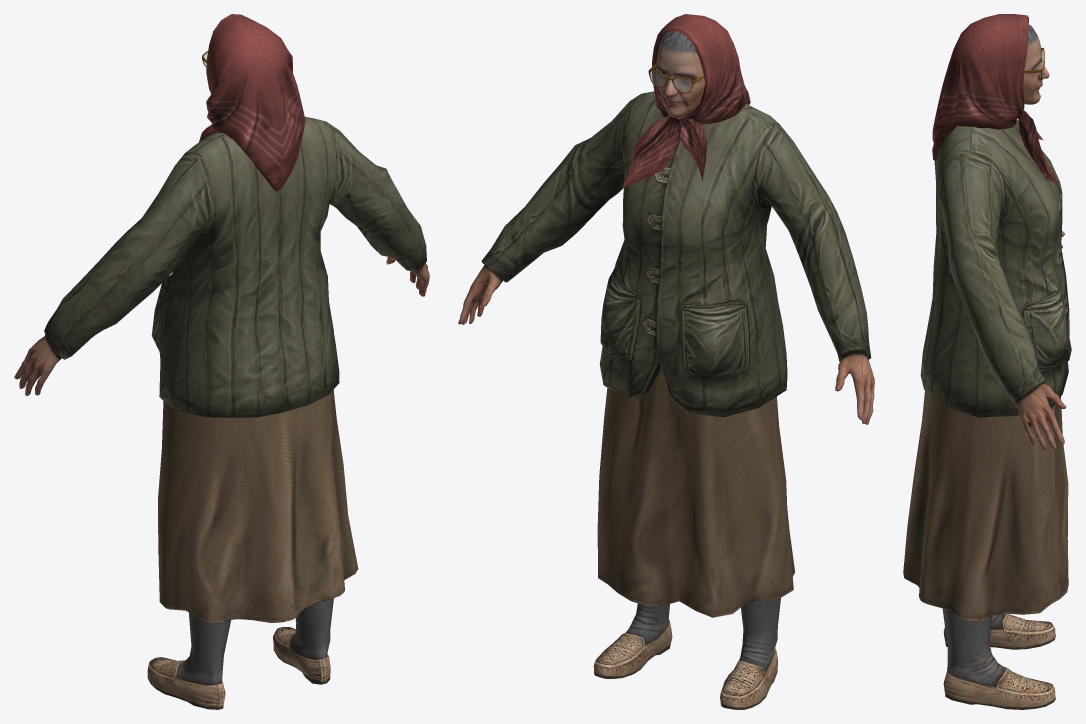
File: Babushka_2.fbx
The picture shows the model from 3 angles, left to right: view 1: azimuth 30°, elevation 25°; view 2: azimuth 150°, elevation 25°; view 3: azimuth 270°, elevation 25°; orthographic projection.
Visible parts, largest first — view 1: p3dm.ru_bosnian_b; view 2: p3dm.ru_bosnian_b; view 3: p3dm.ru_bosnian_b.
Part boxes in pixels (left/top/right/bottom): p3dm.ru_bosnian_b: left=14, top=14, right=429, bottom=709; p3dm.ru_bosnian_b: left=458, top=14, right=874, bottom=709; p3dm.ru_bosnian_b: left=903, top=14, right=1071, bottom=709.
Size of the model in its own units: 200 by 310 by 72.26.
